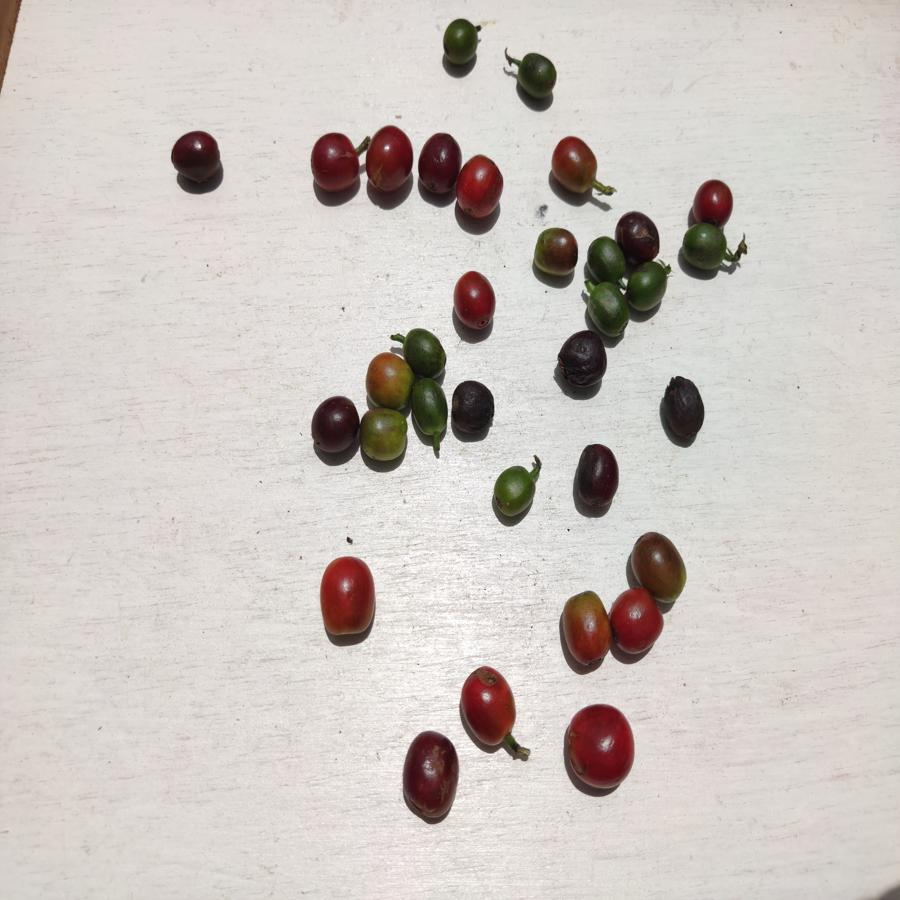Inmaduro: (410, 377, 450, 441), (587, 282, 633, 337), (492, 465, 538, 520), (625, 261, 672, 312), (683, 222, 729, 273), (513, 49, 558, 101), (406, 329, 448, 378), (440, 18, 483, 65), (586, 237, 620, 283)
Maduro: (565, 703, 637, 792), (317, 555, 376, 645), (459, 664, 515, 751), (609, 588, 663, 657), (308, 130, 361, 198), (364, 125, 413, 192), (458, 155, 504, 220), (453, 272, 496, 334), (692, 178, 738, 222)
Pinton: (560, 589, 609, 669), (629, 530, 689, 588), (551, 134, 598, 195), (359, 408, 409, 464), (365, 350, 409, 406), (531, 227, 577, 280)
Sobremaduro: (399, 731, 456, 819), (659, 376, 707, 439), (558, 333, 611, 390), (167, 131, 223, 184), (574, 442, 620, 505), (310, 398, 358, 457), (451, 380, 495, 437), (418, 133, 459, 194), (615, 212, 663, 262)
